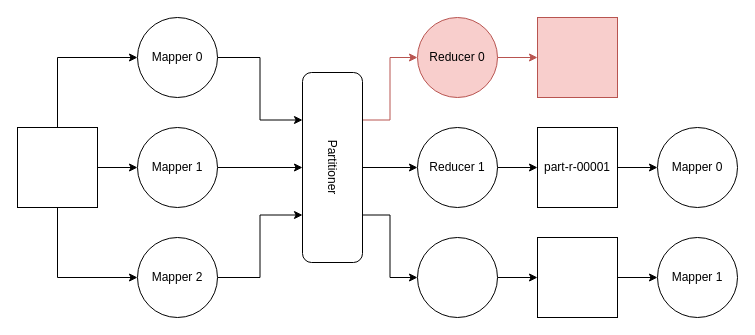
The diagram is 755 pixels wide and 335 high, and some of its shapes have lost their labels. The shapes that lost their labels are listed below. From the top down, each one's box as (x1, y1, x2, y2) in pixels, then its label:
(536, 16, 618, 98): part-r-00000
(16, 126, 98, 208): dataset.txt
(416, 236, 498, 318): Redicer 2
(536, 236, 618, 318): part-r-00002
